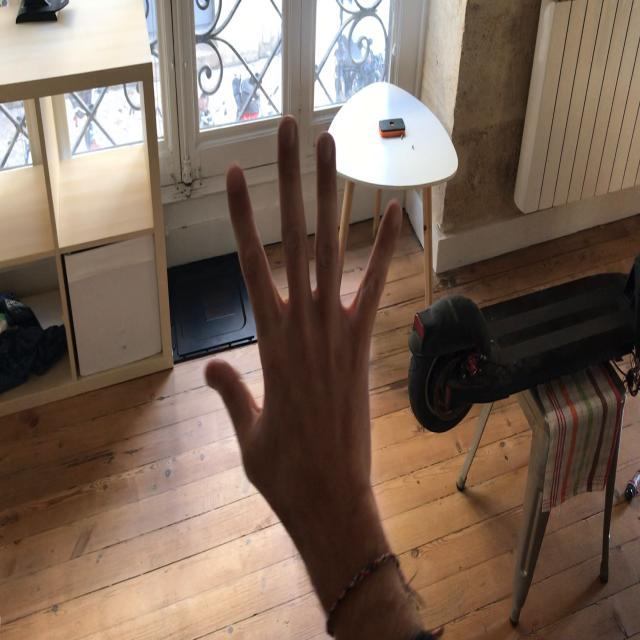no-gloves: (202, 111, 402, 508)
